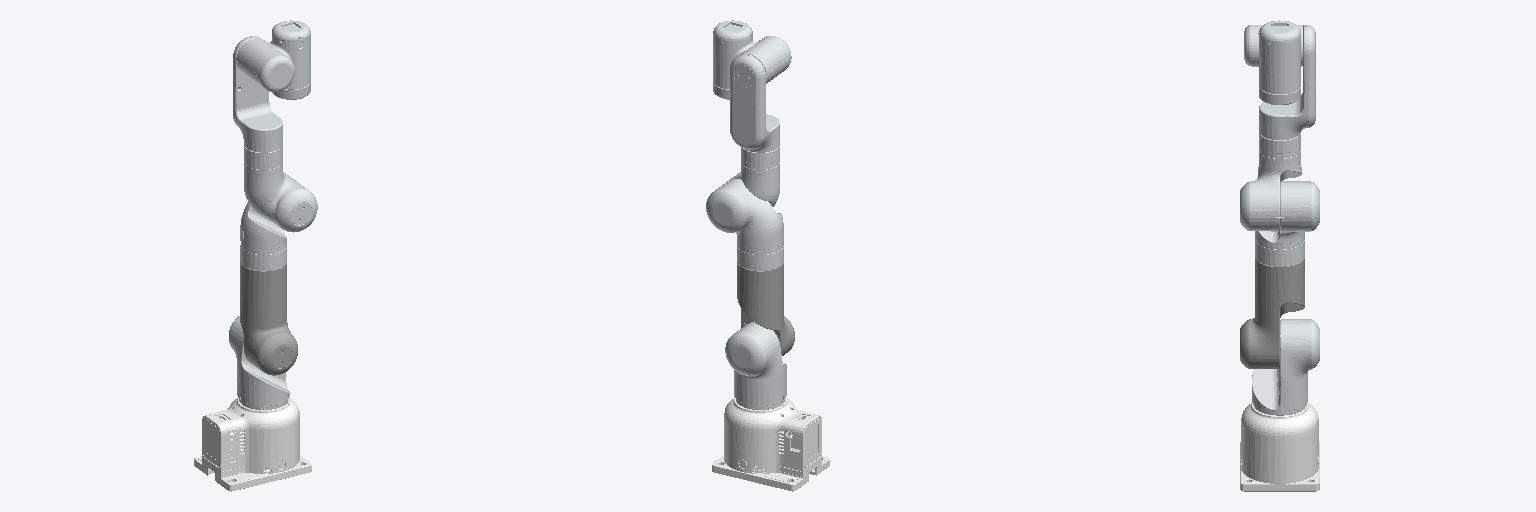
URDF robot description (mercury_a1):
<?xml version="2.0" encoding="utf-8" ?>
<!-- This URDF was automatically created by SolidWorks to URDF Exporter! Originally created by Stephen Brawner (brawner@gmail.com) 
     Commit Version: 1.6.0-4-g7f85cfe  Build Version: 1.6.7995.38578
     For more information, please see http://wiki.ros.org/sw_urdf_exporter -->
<robot name="mercury_a1">
    <link name="base_link">
        <inertial>
            <origin xyz="-0.0123084401473783 -1.63859262758691E-05 -0.0486488242041093" rpy="0 0 0" />
            <mass value="0.480011489444113" />
            <inertia ixx="0.000626058416302638" ixy="-2.57483864297243E-06" ixz="-2.4501776817415E-05" iyy="0.000956236499628875" iyz="2.37877107595374E-06" izz="0.000748625541545906" />
        </inertial>
        <visual>
            <origin xyz="0 0 0" rpy="0 0 0" />
            <geometry>
                <mesh filename="package://mercury_description/urdf/mercury_a1/meshes/base_link.STL" />
            </geometry>
            <material name="">
                <color rgba="1 1 1 1" />
            </material>
        </visual>
        <collision>
            <origin xyz="0 0 0" rpy="0 0 0" />
            <geometry>
                <mesh filename="package://mercury_description/urdf/mercury_a1/meshes/base_link.STL" />
            </geometry>
        </collision>
    </link>
    <link name="link1">
        <inertial>
            <origin xyz="-0.0012502 0.012099 -0.028968" rpy="0 0 0" />
            <mass value="0.33317" />
            <inertia ixx="0.00045586" ixy="-9.925E-06" ixz="-8.2588E-06" iyy="0.00043954" iyz="-8.8472E-05" izz="0.00020198" />
        </inertial>
        <visual>
            <origin xyz="0 0 0" rpy="0 0 0" />
            <geometry>
                <mesh filename="package://mercury_description/urdf/mercury_a1/meshes/link1.STL" />
            </geometry>
            <material name="">
                <color rgba="0.89804 0.91765 0.92941 1" />
            </material>
        </visual>
        <collision>
            <origin xyz="0 0 0" rpy="0 0 0" />
            <geometry>
                <mesh filename="package://mercury_description/urdf/mercury_a1/meshes/link1.STL" />
            </geometry>
        </collision>
    </link>
    <joint name="joint1" type="revolute">
        <origin xyz="0 0 0.08364" rpy="0 0 0" />
        <parent link="base_link" />
        <child link="link1" />
        <axis xyz="0 0 1" />
        <limit lower="-2.8798" upper="2.8798" effort="0" velocity="0" />
    </joint>
    <link name="Link2">
        <inertial>
            <origin xyz="-0.00071086 -0.059802 -0.0076451" rpy="0 0 0" />
            <mass value="0.36178" />
            <inertia ixx="0.00078683" ixy="2.9083E-06" ixz="4.623E-06" iyy="0.0002009" iyz="0.00014611" izz="0.00076632" />
        </inertial>
        <visual>
            <origin xyz="0 0 0" rpy="0 0 0" />
            <geometry>
                <mesh filename="package://mercury_description/urdf/mercury_a1/meshes/Link2.STL" />
            </geometry>
            <material name="">
                <color rgba="0.69804 0.69804 0.69804 1" />
            </material>
        </visual>
        <collision>
            <origin xyz="0 0 0" rpy="0 0 0" />
            <geometry>
                <mesh filename="package://mercury_description/urdf/mercury_a1/meshes/Link2.STL" />
            </geometry>
        </collision>
    </link>
    <joint name="joint2" type="revolute">
        <origin xyz="0 0 0" rpy="-1.5708 0 0" />
        <parent link="link1" />
        <child link="Link2" />
        <axis xyz="0 0 1" />
        <limit lower="-0.8727" upper="2.0944" effort="0" velocity="0" />
    </joint>
    <link name="Link3">
        <inertial>
            <origin xyz="0.0082434 0.0059087 -0.031999" rpy="0 0 0" />
            <mass value="0.28631" />
            <inertia ixx="0.0003389" ixy="-2.3284E-05" ixz="-8.3634E-05" iyy="0.0003926" iyz="-4.7909E-05" izz="0.00020222" />
        </inertial>
        <visual>
            <origin xyz="0 0 0" rpy="0 0 0" />
            <geometry>
                <mesh filename="package://mercury_description/urdf/mercury_a1/meshes/Link3.STL" />
            </geometry>
            <material name="">
                <color rgba="0.89804 0.91765 0.92941 1" />
            </material>
        </visual>
        <collision>
            <origin xyz="0 0 0" rpy="0 0 0" />
            <geometry>
                <mesh filename="package://mercury_description/urdf/mercury_a1/meshes/Link3.STL" />
            </geometry>
        </collision>
    </link>
    <joint name="joint3" type="revolute">
        <origin xyz="0 -0.20199 0" rpy="1.5708 0 0" />
        <parent link="Link2" />
        <child link="Link3" />
        <axis xyz="0 0 1" />
        <limit lower="-2.8798" upper="2.8798" effort="0" velocity="0" />
    </joint>
    <link name="Link4">
        <inertial>
            <origin xyz="-0.0191569921228133 0.0315772526657402 0.0105543692458914" rpy="0 0 0" />
            <mass value="0.242339225037204" />
            <inertia ixx="0.000320783461902634" ixy="8.28586193108267E-05" ixz="-4.0729367106249E-05" iyy="0.000170273686625699" iyz="7.58935125808109E-05" izz="0.000356030605411011" />
        </inertial>
        <visual>
            <origin xyz="0 0 0" rpy="0 0 0" />
            <geometry>
                <mesh filename="package://mercury_description/urdf/mercury_a1/meshes/Link4.STL" />
            </geometry>
            <material name="">
                <color rgba="0.898039215686275 0.917647058823529 0.929411764705882 1" />
            </material>
        </visual>
        <collision>
            <origin xyz="0 0 0" rpy="0 0 0" />
            <geometry>
                <mesh filename="package://mercury_description/urdf/mercury_a1/meshes/Link4.STL" />
            </geometry>
        </collision>
    </link>
    <joint name="joint4" type="revolute">
        <origin xyz="0.02953 0 0" rpy="1.5708 0 0" />
        <parent link="Link3" />
        <child link="Link4" />
        <axis xyz="0 0 1" />
        <limit lower="-2.8798" upper="0.0873" effort="0" velocity="0" />
    </joint>
    <link name="Link5">
        <inertial>
            <origin xyz="8.85065363998372E-05 0.0156190326131395 -0.0754383608547499" rpy="0 0 0" />
            <mass value="0.155939982030202" />
            <inertia ixx="0.000329949804584999" ixy="-3.07358055620112E-07" ixz="-2.29337514537968E-07" iyy="0.000294654647810485" iyz="-8.81051089188151E-05" izz="8.97409277948904E-05" />
        </inertial>
        <visual>
            <origin xyz="0 0 0" rpy="0 0 0" />
            <geometry>
                <mesh filename="package://mercury_description/urdf/mercury_a1/meshes/Link5.STL" />
            </geometry>
            <material name="">
                <color rgba="0.898039215686275 0.917647058823529 0.929411764705882 1" />
            </material>
        </visual>
        <collision>
            <origin xyz="0 0 0" rpy="0 0 0" />
            <geometry>
                <mesh filename="package://mercury_description/urdf/mercury_a1/meshes/Link5.STL" />
            </geometry>
        </collision>
    </link>
    <joint name="joint5" type="revolute">
        <origin xyz="-0.02953 0.20602 0" rpy="-1.5708 0 0" />
        <parent link="Link4" />
        <child link="Link5" />
        <axis xyz="0 0 1" />
        <limit lower="-2.8798" upper="2.8798" effort="0" velocity="0" />
    </joint>
    <link name="Link6">
        <inertial>
            <origin xyz="0.0304456963337666 0.00289289251234901 -0.00140790618278646" rpy="0 0 0" />
            <mass value="0.227233689100569" />
            <inertia ixx="0.000157733682624378" ixy="-7.60696528568783E-06" ixz="-9.78783628134812E-06" iyy="0.000180888483633054" iyz="-8.5039906031172E-07" izz="0.000220814948993568" />
        </inertial>
        <visual>
            <origin xyz="0 0 0" rpy="0 0 0" />
            <geometry>
                <mesh filename="package://mercury_description/urdf/mercury_a1/meshes/Link6.STL" />
            </geometry>
            <material name="">
                <color rgba="0.898039215686275 0.917647058823529 0.929411764705882 1" />
            </material>
        </visual>
        <collision>
            <origin xyz="0 0 0" rpy="0 0 0" />
            <geometry>
                <mesh filename="package://mercury_description/urdf/mercury_a1/meshes/Link6.STL" />
            </geometry>
        </collision>
    </link>
    <joint name="joint6" type="revolute">
        <origin xyz="0 0 0" rpy="1.5708 0 0" />
        <parent link="Link5" />
        <child link="Link6" />
        <axis xyz="0 0 1" />
        <limit lower="-0.3491" upper="4.6251" effort="0" velocity="0" />
    </joint>
    <link name="Link7">
        <inertial>
            <origin xyz="4.47832628851508E-05 -2.29928034365445E-05 -0.00815023101567416" rpy="0 0 0" />
            <mass value="0.0300324439188857" />
            <inertia ixx="5.68918212733788E-06" ixy="-3.73294774986682E-08" ixz="-4.85025377809747E-09" iyy="5.6483229039185E-06" iyz="2.87250318179369E-09" izz="1.0270808717622E-05" />
        </inertial>
        <visual>
            <origin xyz="0 0 0" rpy="0 0 0" />
            <geometry>
                <mesh filename="package://mercury_description/urdf/mercury_a1/meshes/Link7.STL" />
            </geometry>
            <material name="">
                <color rgba="0.866666666666667 0.866666666666667 0.890196078431372 1" />
            </material>
        </visual>
        <collision>
            <origin xyz="0 0 0" rpy="0 0 0" />
            <geometry>
                <mesh filename="package://mercury_description/urdf/mercury_a1/meshes/Link7.STL" />
            </geometry>
        </collision>
    </link>
    <joint name="joint7" type="revolute">
        <origin xyz="0.042 -0.05101 0" rpy="1.5708 0 0" />
        <parent link="Link6" />
        <child link="Link7" />
        <axis xyz="0 0 1" />
        <limit lower="-3.1416" upper="3.1416" effort="0" velocity="0" />
    </joint>
    <link name="Link_gripper">
        <visual>
            <geometry>
                <mesh filename="package://mercury_description/urdf/three_gripper/three_myhand.dae" />
            </geometry>
            <origin xyz="0.03 0.04 0.002 " rpy=" 0 0 -1.5708" />
        </visual>
        <collision>
            <origin xyz="0.0 0 -0.002 " rpy=" 0 0 -1.5708" />
            <geometry>
                <cylinder length="0.004" radius="0.023" />
            </geometry>
        </collision>
        <inertial>
            <mass value="0.1" />
            <origin xyz="0 0 0" rpy="0 0 0" />
            <inertia ixx="0.03" iyy="0.03" izz="0.03" ixy="0.0" ixz="0.0" iyz="0.0" />
        </inertial>
    </link>
    <joint name="gripper_to_joint7" type="fixed">
        <axis xyz="0 0 1" />
        <!-- <limit effort = "1000.0" lower = "-3.14" upper = "3.14" velocity = "0"/> -->
        <parent link="Link7" />
        <child link="Link_gripper" />
        <origin xyz="0.0 0.0 0.0" rpy="0 0 0" />
    </joint>
    <transmission name="trans_joint1">
        <type>transmission_interface/SimpleTransmission</type>
        <joint name="joint1">
            <hardwareInterface>hardware_interface/EffortJointInterface</hardwareInterface>
        </joint>
        <actuator name="joint1_motor">
            <hardwareInterface>hardware_interface/EffortJointInterface</hardwareInterface>
            <mechanicalReduction>1</mechanicalReduction>
        </actuator>
    </transmission>
    <transmission name="trans_joint2">
        <type>transmission_interface/SimpleTransmission</type>
        <joint name="joint2">
            <hardwareInterface>hardware_interface/EffortJointInterface</hardwareInterface>
        </joint>
        <actuator name="joint2_motor">
            <hardwareInterface>hardware_interface/EffortJointInterface</hardwareInterface>
            <mechanicalReduction>1</mechanicalReduction>
        </actuator>
    </transmission>
    <transmission name="trans_joint3">
        <type>transmission_interface/SimpleTransmission</type>
        <joint name="joint3">
            <hardwareInterface>hardware_interface/EffortJointInterface</hardwareInterface>
        </joint>
        <actuator name="joint3_motor">
            <hardwareInterface>hardware_interface/EffortJointInterface</hardwareInterface>
            <mechanicalReduction>1</mechanicalReduction>
        </actuator>
    </transmission>
    <transmission name="trans_joint4">
        <type>transmission_interface/SimpleTransmission</type>
        <joint name="joint4">
            <hardwareInterface>hardware_interface/EffortJointInterface</hardwareInterface>
        </joint>
        <actuator name="joint4_motor">
            <hardwareInterface>hardware_interface/EffortJointInterface</hardwareInterface>
            <mechanicalReduction>1</mechanicalReduction>
        </actuator>
    </transmission>
    <transmission name="trans_joint5">
        <type>transmission_interface/SimpleTransmission</type>
        <joint name="joint5">
            <hardwareInterface>hardware_interface/EffortJointInterface</hardwareInterface>
        </joint>
        <actuator name="joint5_motor">
            <hardwareInterface>hardware_interface/EffortJointInterface</hardwareInterface>
            <mechanicalReduction>1</mechanicalReduction>
        </actuator>
    </transmission>
    <transmission name="trans_joint6">
        <type>transmission_interface/SimpleTransmission</type>
        <joint name="joint6">
            <hardwareInterface>hardware_interface/EffortJointInterface</hardwareInterface>
        </joint>
        <actuator name="joint6_motor">
            <hardwareInterface>hardware_interface/EffortJointInterface</hardwareInterface>
            <mechanicalReduction>1</mechanicalReduction>
        </actuator>
    </transmission>
    <transmission name="trans_joint7">
        <type>transmission_interface/SimpleTransmission</type>
        <joint name="joint7">
            <hardwareInterface>hardware_interface/EffortJointInterface</hardwareInterface>
        </joint>
        <actuator name="joint7_motor">
            <hardwareInterface>hardware_interface/EffortJointInterface</hardwareInterface>
            <mechanicalReduction>1</mechanicalReduction>
        </actuator>
    </transmission>
    <gazebo>
        <plugin name="gazebo_ros_control" filename="libgazebo_ros_control.so">
            <robotNamespace>/</robotNamespace>
        </plugin>
    </gazebo>
</robot>

--- What the picture shows (computed from the rendered views, not written in the file) ---
The picture shows the robot from 3 angles, left to right: view 1: azimuth 30°, elevation 25°; view 2: azimuth 150°, elevation 25°; view 3: azimuth 270°, elevation 25°; orthographic projection.
Model mercury_a1 with 9 links and 8 joints (7 revolute, 1 fixed), rooted at base_link, posed all joints at 0.
Visible links, largest first — view 1: base_link, Link2, Link4, Link6, Link5, link1, Link3; view 2: base_link, Link3, link1, Link5, Link2, Link6, Link4; view 3: base_link, Link2, link1, Link4, Link3, Link6, Link5.
Link boxes in pixels (x1=…): base_link: x1=194, y1=398, x2=311, y2=491; Link2: x1=240, y1=262, x2=297, y2=375; Link4: x1=244, y1=146, x2=317, y2=232; Link6: x1=236, y1=20, x2=310, y2=91; Link5: x1=233, y1=36, x2=282, y2=152; link1: x1=229, y1=316, x2=289, y2=409; Link3: x1=240, y1=172, x2=295, y2=270; base_link: x1=712, y1=398, x2=829, y2=491; Link3: x1=706, y1=179, x2=783, y2=270; link1: x1=725, y1=322, x2=786, y2=409; Link5: x1=730, y1=54, x2=779, y2=152; Link2: x1=737, y1=263, x2=794, y2=355; Link6: x1=713, y1=20, x2=791, y2=88; Link4: x1=730, y1=146, x2=779, y2=206; base_link: x1=1240, y1=402, x2=1319, y2=491; Link2: x1=1240, y1=258, x2=1304, y2=368; link1: x1=1252, y1=319, x2=1319, y2=415; Link4: x1=1240, y1=133, x2=1301, y2=231; Link3: x1=1255, y1=181, x2=1319, y2=266; Link6: x1=1244, y1=20, x2=1302, y2=93; Link5: x1=1259, y1=25, x2=1315, y2=139.
Size in the robot's own frame: 0.148 by 0.1 by 0.6316 metres.
8 mesh visuals loaded from 9 distinct referenced files (8 binary STL); not drawn: 1 (reference not matched to a file when rendering).
